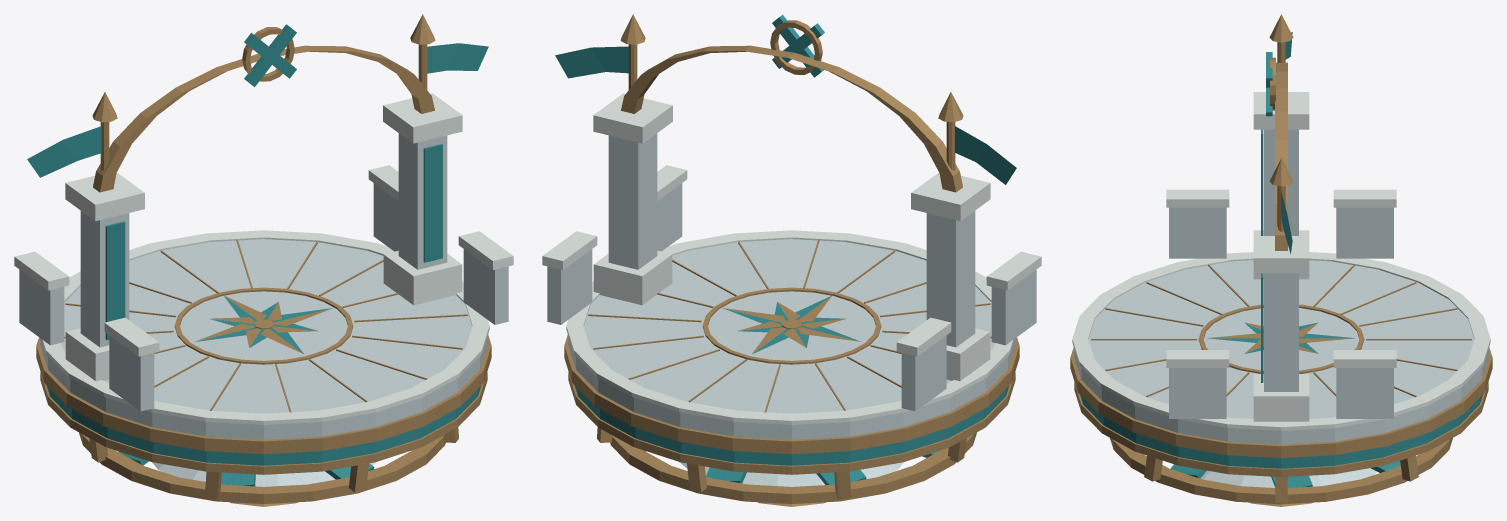
File: royal_wind_lift_20261024.glb
3 renders of one model, left to right at view 1: azimuth 30°, elevation 25°; view 2: azimuth 150°, elevation 25°; view 3: azimuth 270°, elevation 25°, orthographic. The views are drawn at different scales.
Parts seen in each view (by area): view 1: Lift_CoolLimestone, Lift_OldBronze, Lift_PaleCutStone, Lift_RoyalTeal; view 2: Lift_CoolLimestone, Lift_OldBronze, Lift_PaleCutStone, Lift_RoyalTeal; view 3: Lift_CoolLimestone, Lift_OldBronze, Lift_PaleCutStone, Lift_RoyalTeal.
Boxes of the visible parts, x1,y1,x2,y2 form: Lift_CoolLimestone: [19, 133, 508, 486]; Lift_OldBronze: [36, 14, 491, 506]; Lift_PaleCutStone: [14, 93, 513, 424]; Lift_RoyalTeal: [27, 24, 488, 486]; Lift_CoolLimestone: [547, 133, 1036, 486]; Lift_OldBronze: [564, 14, 1019, 506]; Lift_PaleCutStone: [542, 93, 1041, 424]; Lift_RoyalTeal: [555, 14, 1016, 484]; Lift_CoolLimestone: [1074, 129, 1488, 487]; Lift_OldBronze: [1070, 14, 1492, 506]; Lift_PaleCutStone: [1072, 92, 1490, 430]; Lift_RoyalTeal: [1080, 32, 1482, 487].
Size of the model in its own units: 5.32 by 5.01 by 4.54.
